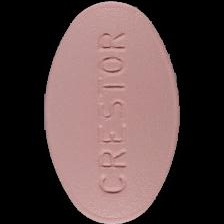0310-0754: (0, 0, 224, 224)
